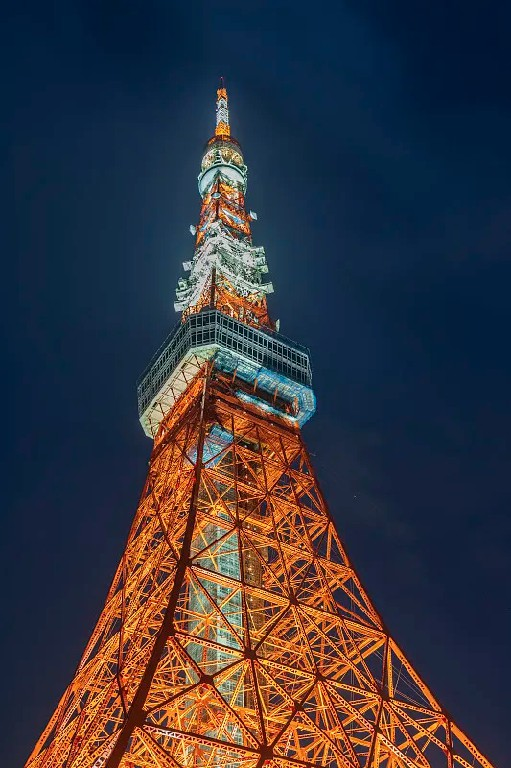Tokyo: (24, 74, 497, 767)
